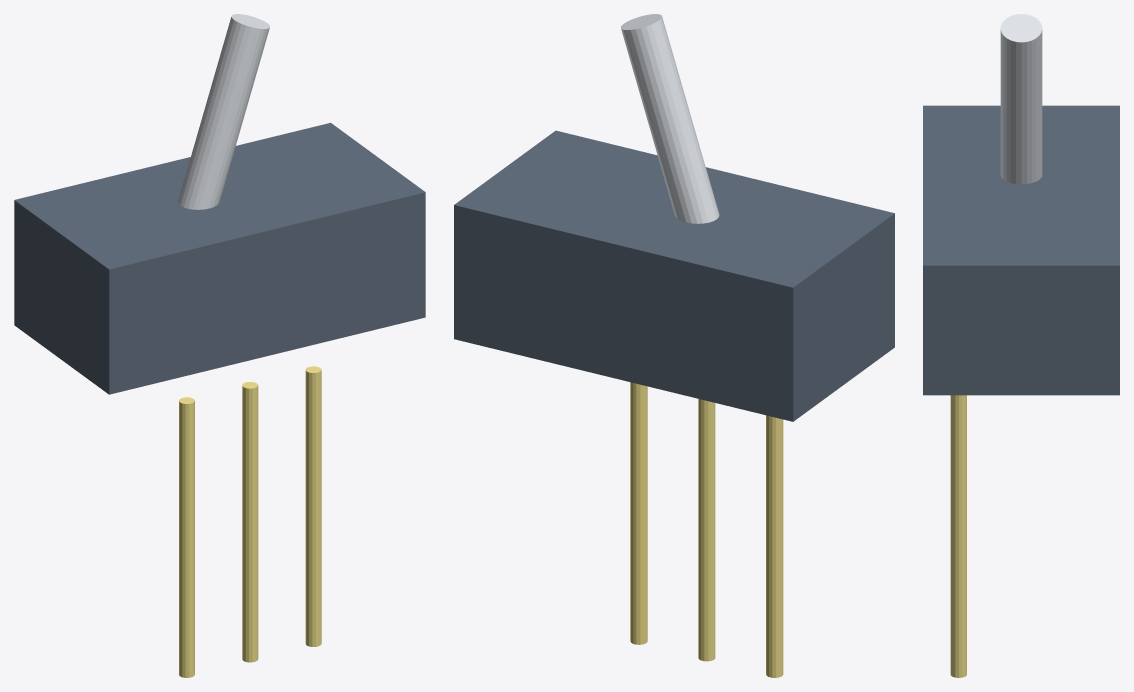
The model's file is slide-switch.glb.
The picture shows the model from 3 angles, left to right: view 1: azimuth 30°, elevation 25°; view 2: azimuth 150°, elevation 25°; view 3: azimuth 270°, elevation 25°; orthographic projection. The views are drawn at different scales.
Visible parts, largest first — view 1: toggle-switch-spdt_mesh; view 2: toggle-switch-spdt_mesh; view 3: toggle-switch-spdt_mesh.
Part boxes in pixels (x1,y1,x2,y2): toggle-switch-spdt_mesh: (14, 14, 425, 677); toggle-switch-spdt_mesh: (454, 14, 894, 677); toggle-switch-spdt_mesh: (923, 14, 1119, 677).
Bounding box in the file's own units: 12.7 × 23.52 × 6.6.
